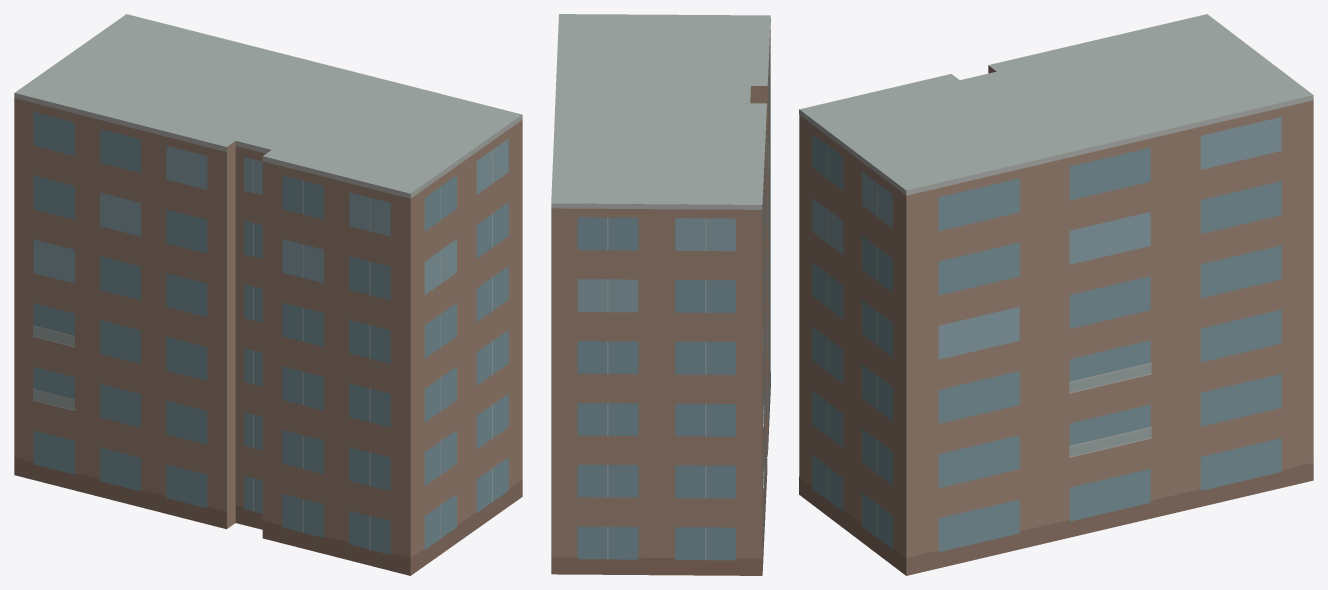
The model's file is survey-upis-32955155.glb.
The picture shows the model from 3 angles, left to right: view 1: azimuth 30°, elevation 25°; view 2: azimuth 150°, elevation 25°; view 3: azimuth 270°, elevation 25°; orthographic projection. The views are drawn at different scales.
Visible parts, largest first — view 1: survey-upis-32955155.tmp; view 2: survey-upis-32955155.tmp; view 3: survey-upis-32955155.tmp.
Boxes of the visible parts, box(x1,y1,x2,y2) form: survey-upis-32955155.tmp: box(14, 14, 522, 575); survey-upis-32955155.tmp: box(551, 14, 770, 575); survey-upis-32955155.tmp: box(799, 14, 1313, 575).
Bounding box in the file's own units: 18 × 18.3 × 22.15.
